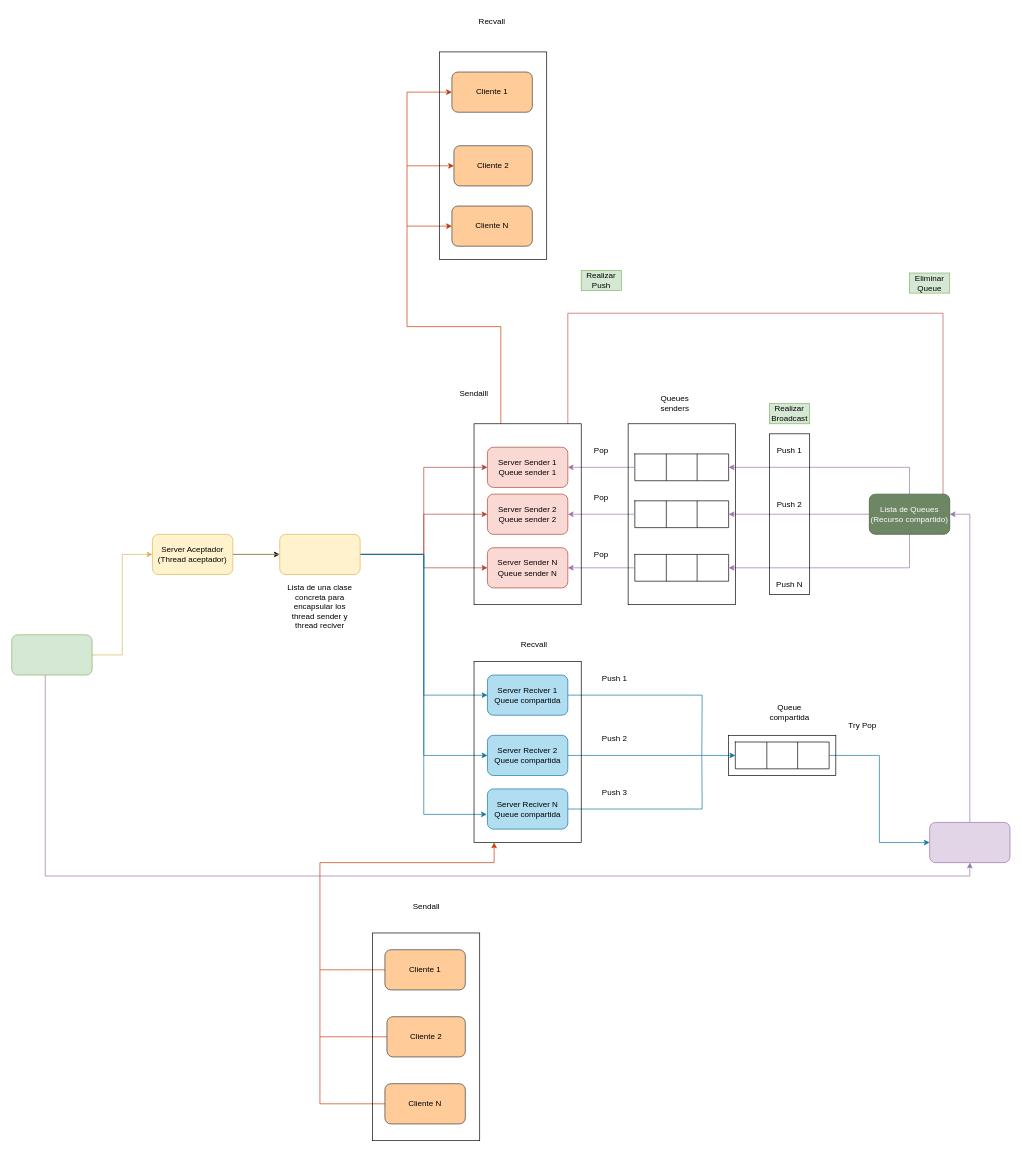
The diagram is 1022 pixels wide and 1152 high, and some of its shapes have lost their labels. Each missing label, with the centre of its shape:
"Lista Client (No es Thread)" belongs at [319,554].
"Server Game Loop" belongs at [969,842].
"Server main (main Thread)" belongs at [51,654].
